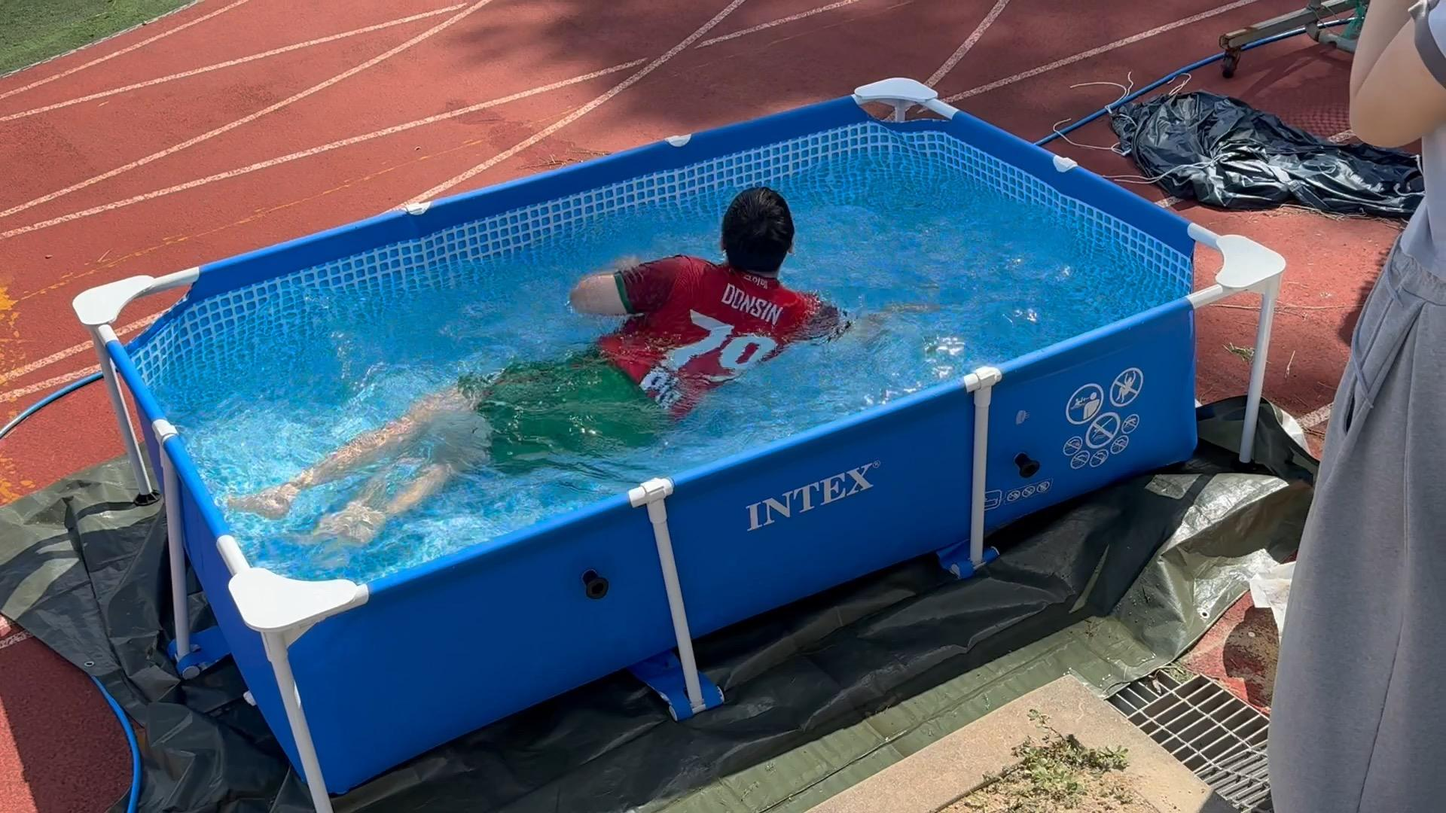Swimming: (223, 198, 1035, 565)
